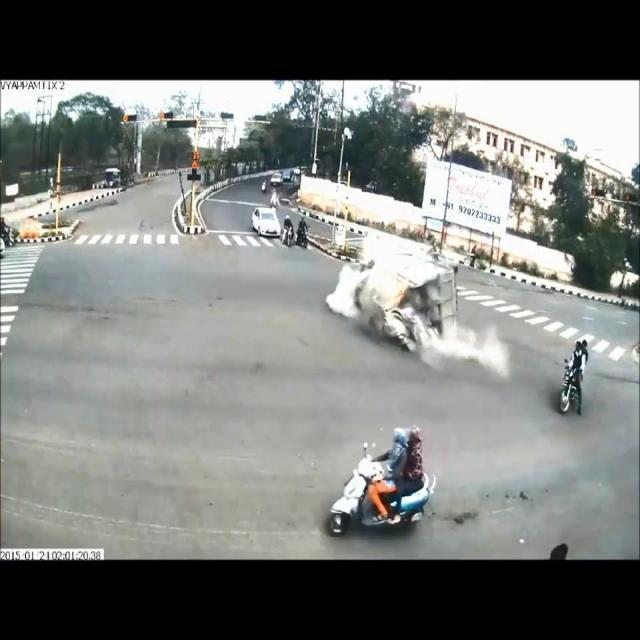normal: (292, 405, 486, 560), (547, 328, 608, 422)
single accident: (343, 233, 483, 374)
